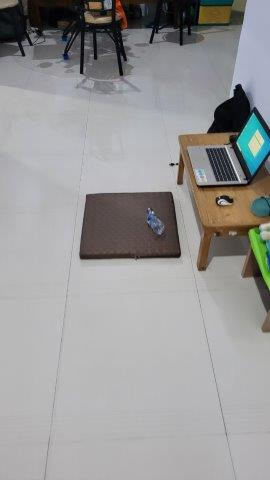botolplastik: (145, 206, 165, 237)
